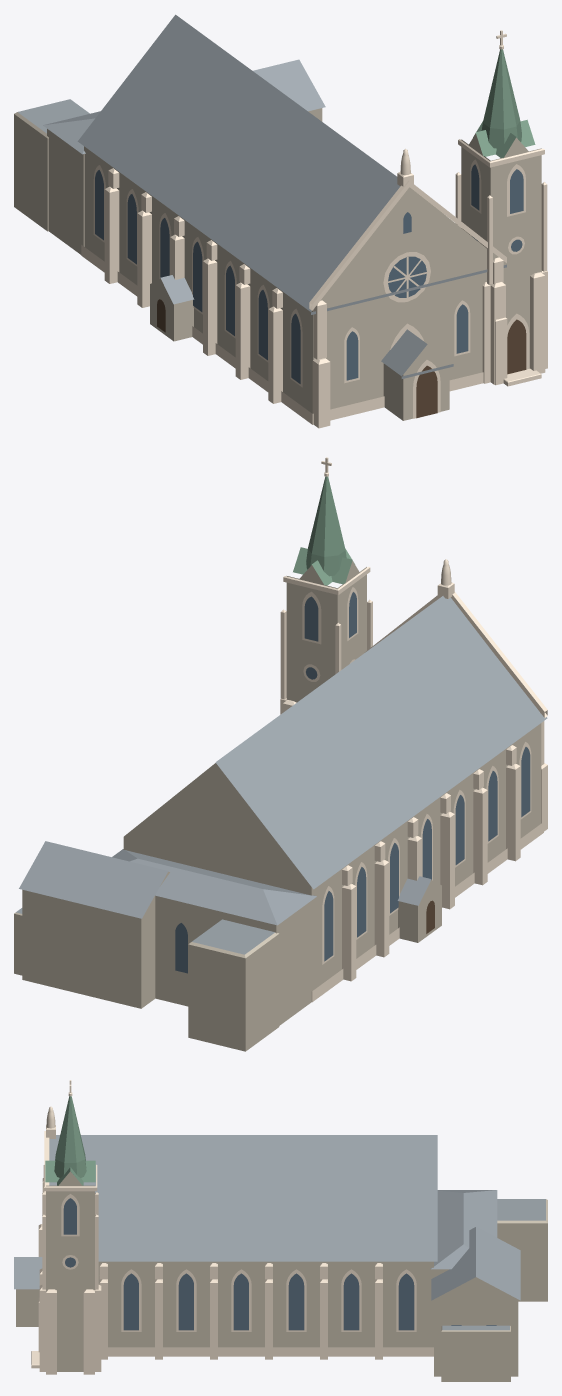
Rendered from cin-holy-cross-immaculata.glb.
The picture shows the model from 3 angles, top to bottom: view 1: azimuth 30°, elevation 25°; view 2: azimuth 150°, elevation 25°; view 3: azimuth 270°, elevation 25°; orthographic projection. The views are drawn at different scales.
Parts seen in each view (by area): view 1: Holy Cross–Immaculata Church; view 2: Holy Cross–Immaculata Church; view 3: Holy Cross–Immaculata Church.
Part boxes in pixels (x1=…): Holy Cross–Immaculata Church: x1=14, y1=14, x2=547, y2=428; Holy Cross–Immaculata Church: x1=14, y1=457, x2=547, y2=1051; Holy Cross–Immaculata Church: x1=14, y1=1080, x2=547, y2=1381.
Bounding box in the file's own units: 25.75 × 30.2 × 52.
